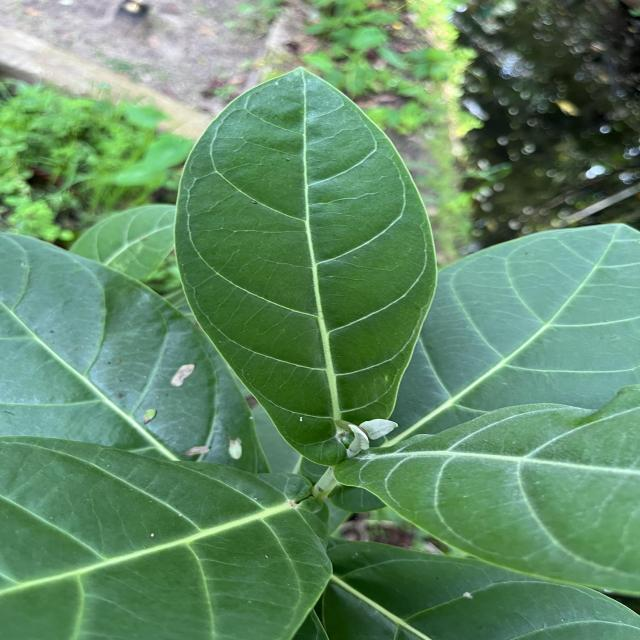Calotropis gigantea: (171, 63, 441, 470), (394, 218, 640, 426)
